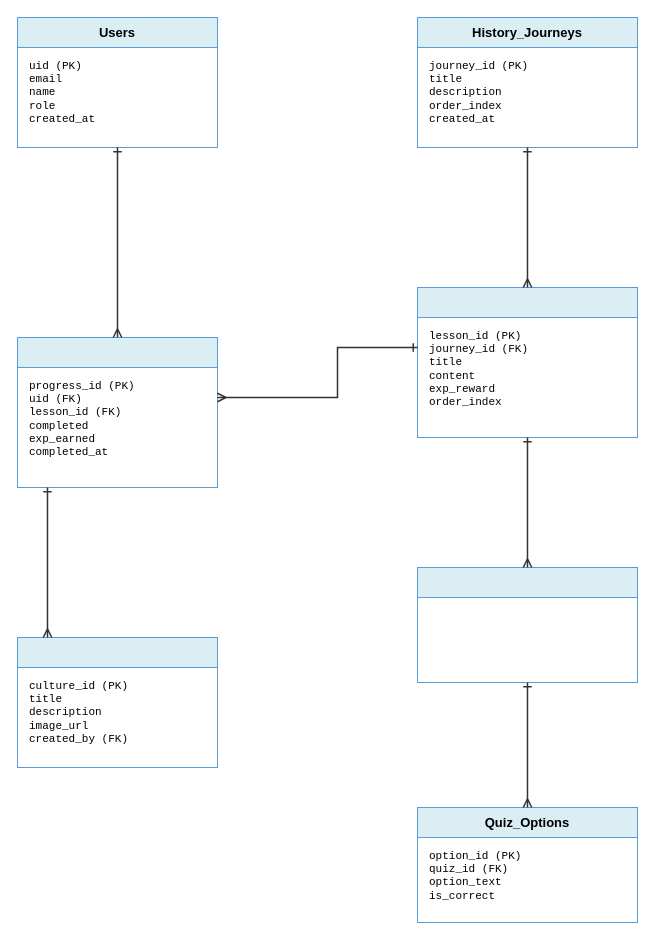
Some shapes in this 655 by 940 pixel diagram are drawn without their labels. Here are the shapes that lost their labels. From the top down, the box of each, then its label:
(416, 286, 638, 318): Lessons
(16, 336, 218, 368): User_Progress
(416, 566, 638, 598): Quizzes
(16, 636, 218, 668): Culture_Content
(416, 596, 638, 682): quiz_id (PK) lesson_id (FK) question created_at
